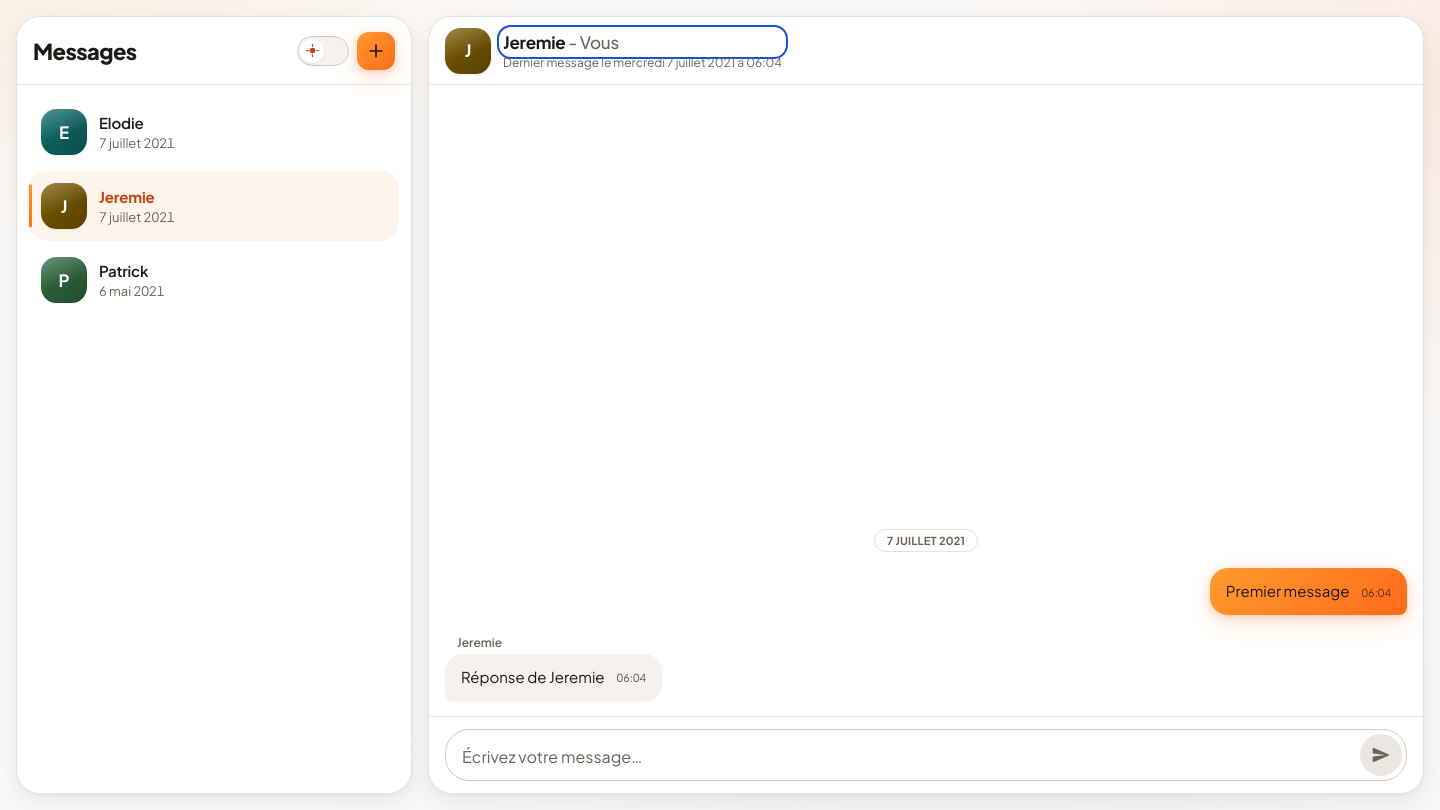
it: failure handling › lets the user discard a message that will not send
Expected: the text "Premier message" is shown, [1226, 580, 1350, 602]
Type "À supprimer" into the text box named "Écrire un message".
click(907, 757); type("À supprimer")  # box [462, 738, 1352, 776]
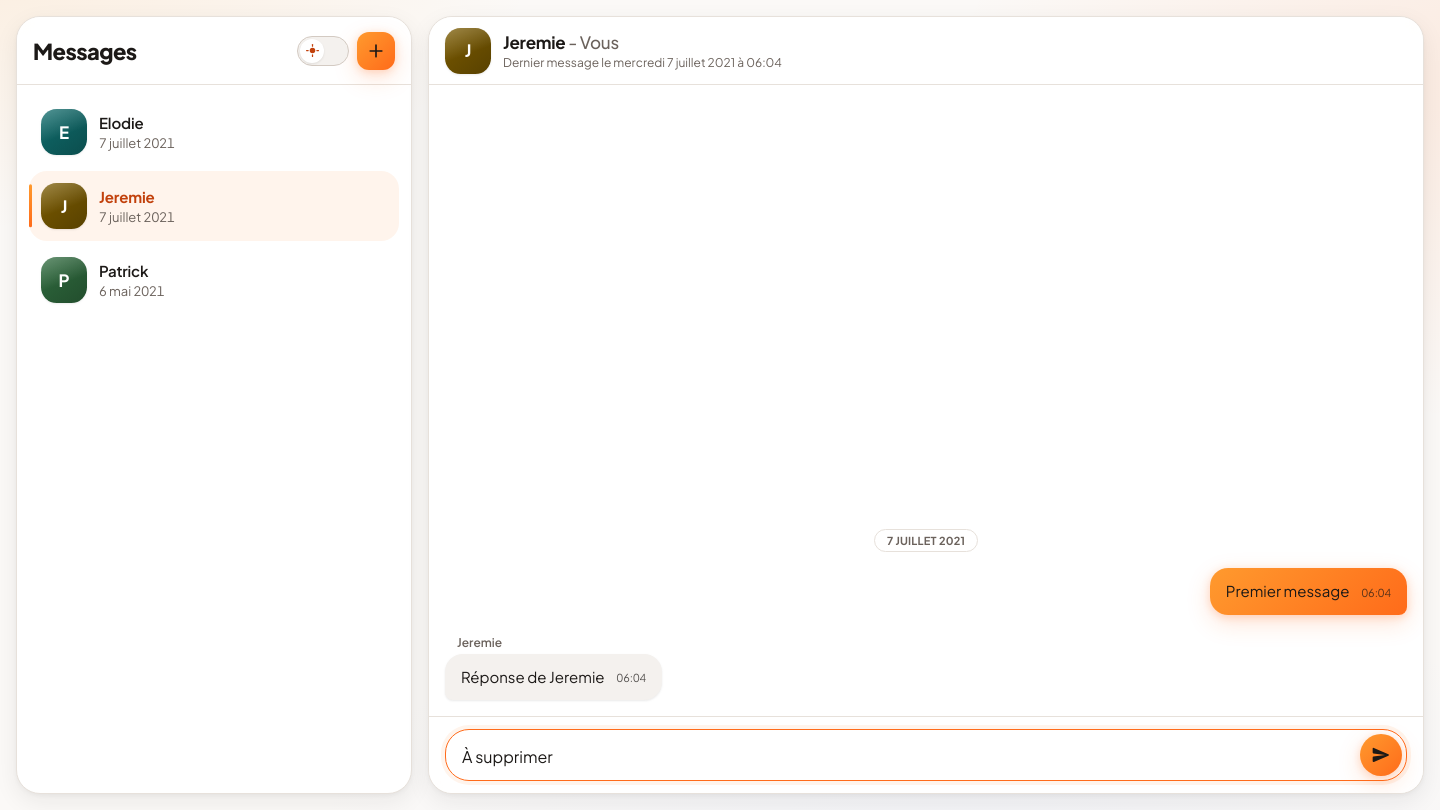
Press Enter
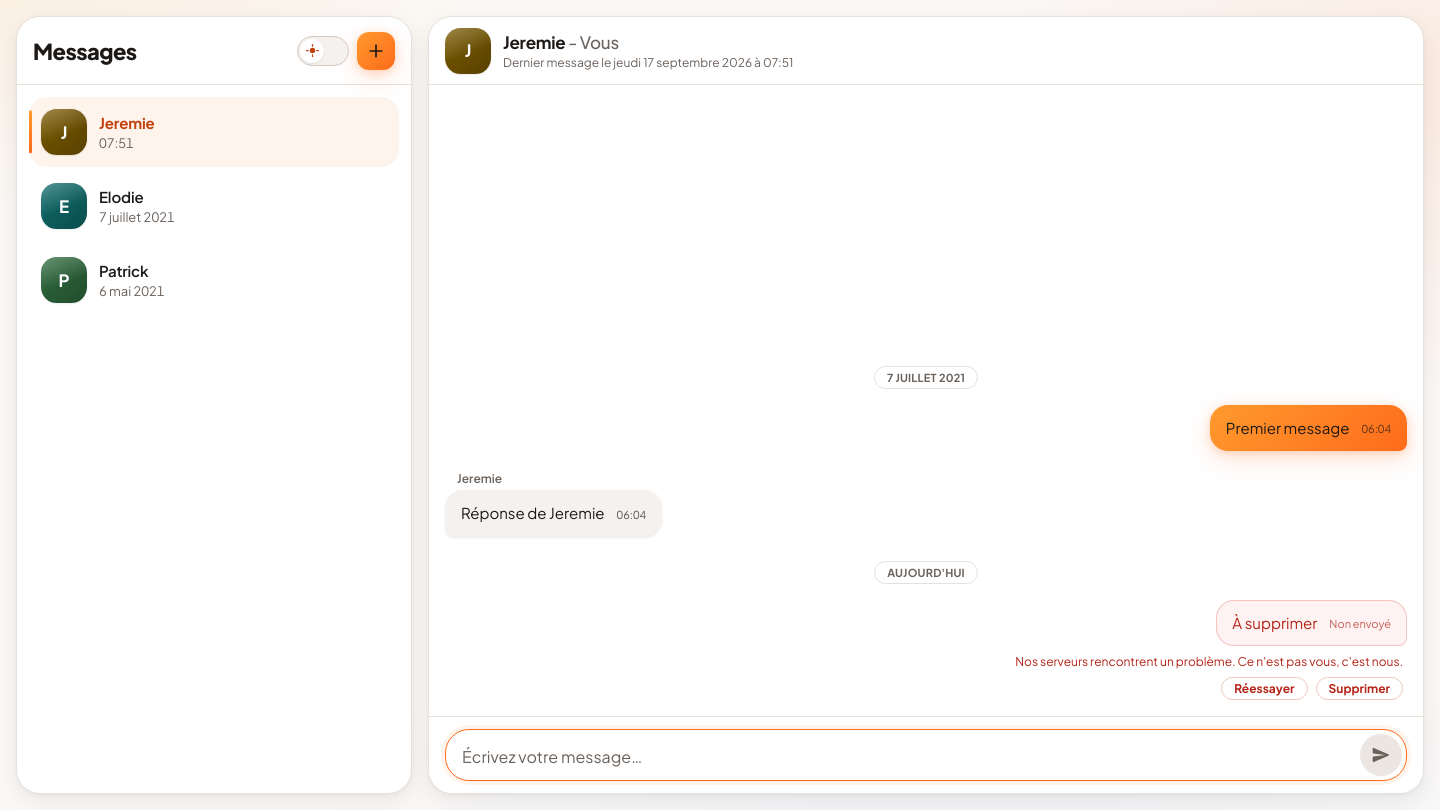
Now the text "Non envoyé" is shown, box [1329, 615, 1391, 634]
Click the button "Supprimer".
click(1359, 688)  # box [1316, 677, 1403, 700]
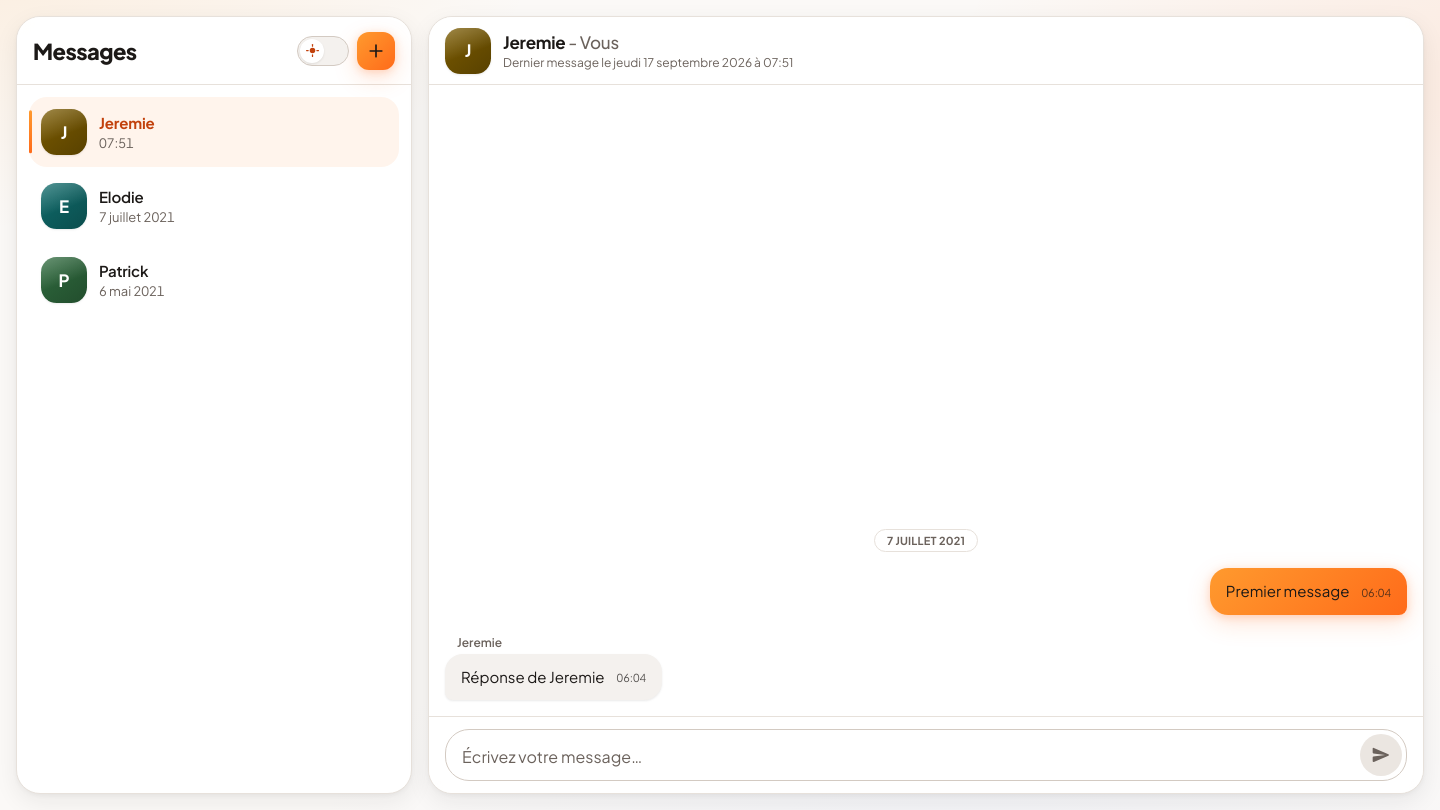
Now the text "À supprimer" is gone
